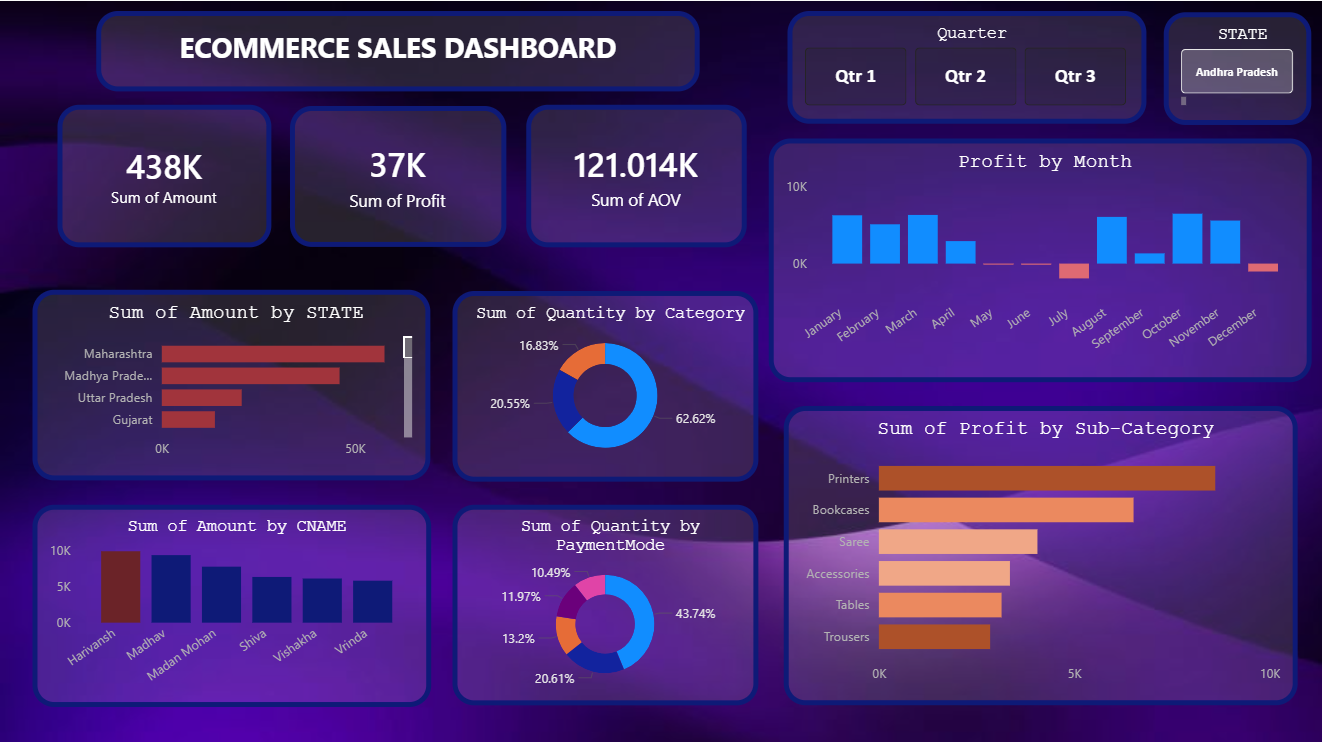

Layout of this report page (visuals, bound fields, positions):
{"tool":"powerbi","page":{"name":"Page 1","canvas":[1280,720],"ordinal":0},"visuals":[{"type":"textbox","box":[92.5,10,582.5,77.5],"z":0},{"type":"columnChart","title":"Profit by Month","fields":{"Y":["Sum(Details.Profit)"],"Category":["Orders.ORDER DATE.Variation.Date Hierarchy.Month"]},"box":[742.5,132.5,523.8,235],"z":1000},{"type":"barChart","fields":{"Category":["Details.Sub-Category"],"Y":["Sum(Details.Profit)"]},"box":[756.2,391.2,496.2,288.8],"z":2000},{"type":"donutChart","fields":{"Category":["Details.Category"],"Y":["Sum(Details.Quantity)"]},"box":[436.2,280,295,183.8],"z":3000},{"type":"donutChart","fields":{"Y":["Sum(Details.Quantity)"],"Category":["Details.PaymentMode"]},"box":[436.2,486.2,295,193.8],"z":4000},{"type":"cardVisual","fields":{"Data":["Sum(Details.Amount)"]},"box":[55,100,206.2,137.5],"z":5000},{"type":"cardVisual","fields":{"Data":["Sum(Details.Profit)"]},"box":[280,101.2,208.8,136.2],"z":6000},{"type":"cardVisual","fields":{"Data":["Sum(Details.AOV)"]},"box":[507.5,100,212.5,137.5],"z":7000},{"type":"barChart","fields":{"Category":["Orders.STATE"],"Y":["Sum(Details.Amount)"]},"box":[31.2,278.8,383.8,183.8],"z":8000},{"type":"columnChart","fields":{"Category":["Orders.CNAME"],"Y":["Sum(Details.Amount)"]},"box":[31.2,486.2,385,195],"z":9000},{"type":"advancedSlicerVisual","fields":{"Values":["Orders.ORDER DATE.Variation.Date Hierarchy.Quarter"]},"box":[760,10,346.2,108.8],"z":10000},{"type":"advancedSlicerVisual","fields":{"Values":["Orders.STATE"]},"box":[1123.8,11.2,142.5,108.8],"z":11000}]}

Visuals, with their boxes in screenshot pixels (x1, y1, x2, y2), scaled from the page's 1280x720 canvas onto the 1322x742 screenshot:
textbox: {"left": 96, "top": 10, "right": 697, "bottom": 90}
"Profit by Month" columnChart: {"left": 767, "top": 137, "right": 1308, "bottom": 379}
barChart - Details.Sub-Category x Sum(Details.Profit): {"left": 781, "top": 403, "right": 1293, "bottom": 701}
donutChart - Details.Category x Sum(Details.Quantity): {"left": 451, "top": 289, "right": 755, "bottom": 478}
donutChart - Sum(Details.Quantity) x Details.PaymentMode: {"left": 451, "top": 501, "right": 755, "bottom": 701}
cardVisual - Sum(Details.Amount): {"left": 57, "top": 103, "right": 270, "bottom": 245}
cardVisual - Sum(Details.Profit): {"left": 289, "top": 104, "right": 505, "bottom": 245}
cardVisual - Sum(Details.AOV): {"left": 524, "top": 103, "right": 744, "bottom": 245}
barChart - Orders.STATE x Sum(Details.Amount): {"left": 32, "top": 287, "right": 429, "bottom": 477}
columnChart - Orders.CNAME x Sum(Details.Amount): {"left": 32, "top": 501, "right": 430, "bottom": 702}
advancedSlicerVisual - Orders.ORDER DATE.Variation.Date Hierarchy.Quarter: {"left": 785, "top": 10, "right": 1142, "bottom": 122}
advancedSlicerVisual - Orders.STATE: {"left": 1161, "top": 12, "right": 1308, "bottom": 124}
